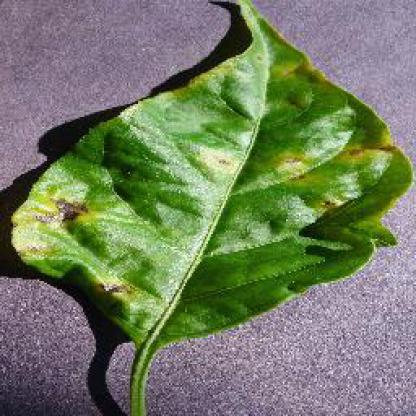bad leaf: (29, 13, 379, 279)
